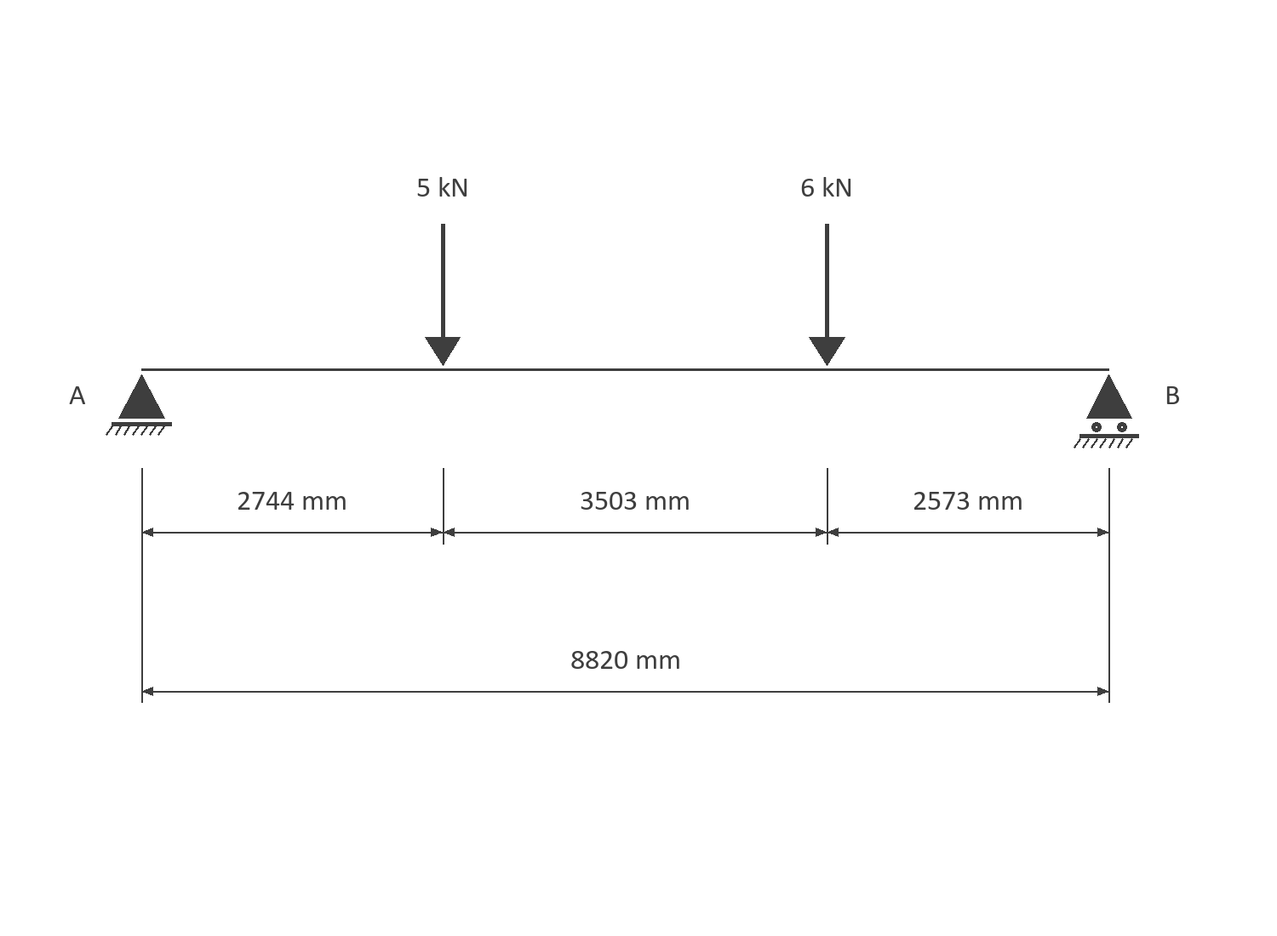pin_support: (106, 374, 172, 436)
point_load: (425, 224, 461, 366), (809, 224, 845, 366)
roller_support: (1074, 374, 1139, 448)
